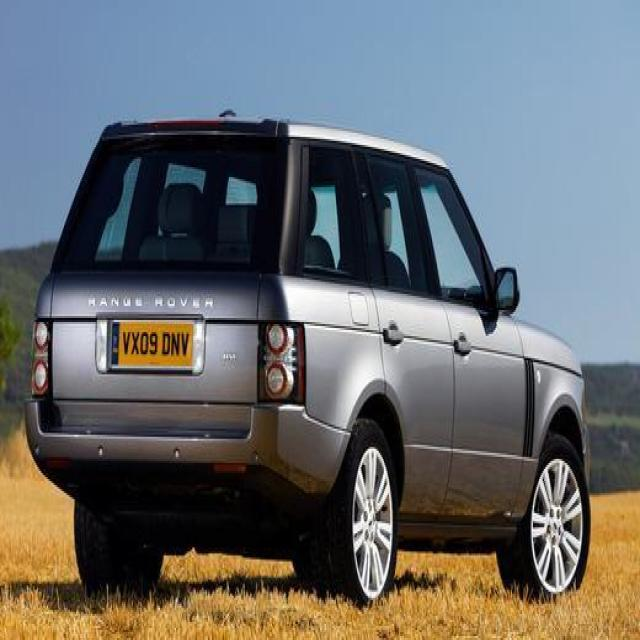Car: (18, 97, 613, 618)
